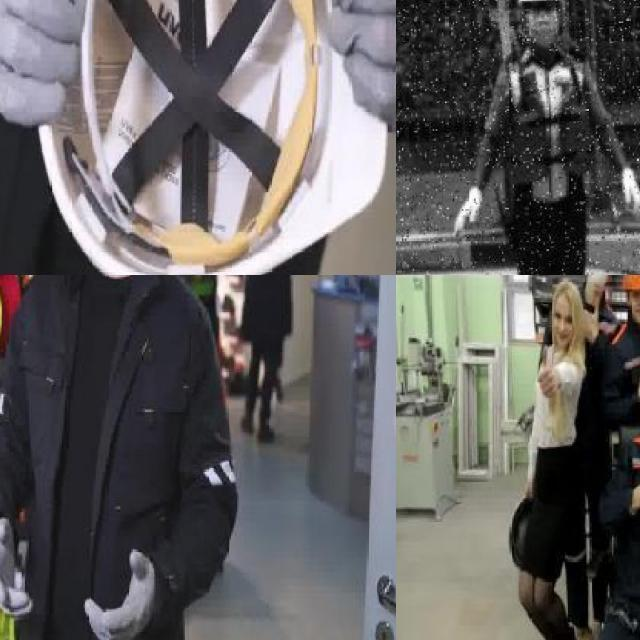apron: (0, 0, 97, 129), (329, 0, 396, 133), (83, 551, 161, 640), (0, 512, 34, 617), (454, 185, 484, 238), (617, 164, 640, 215)
